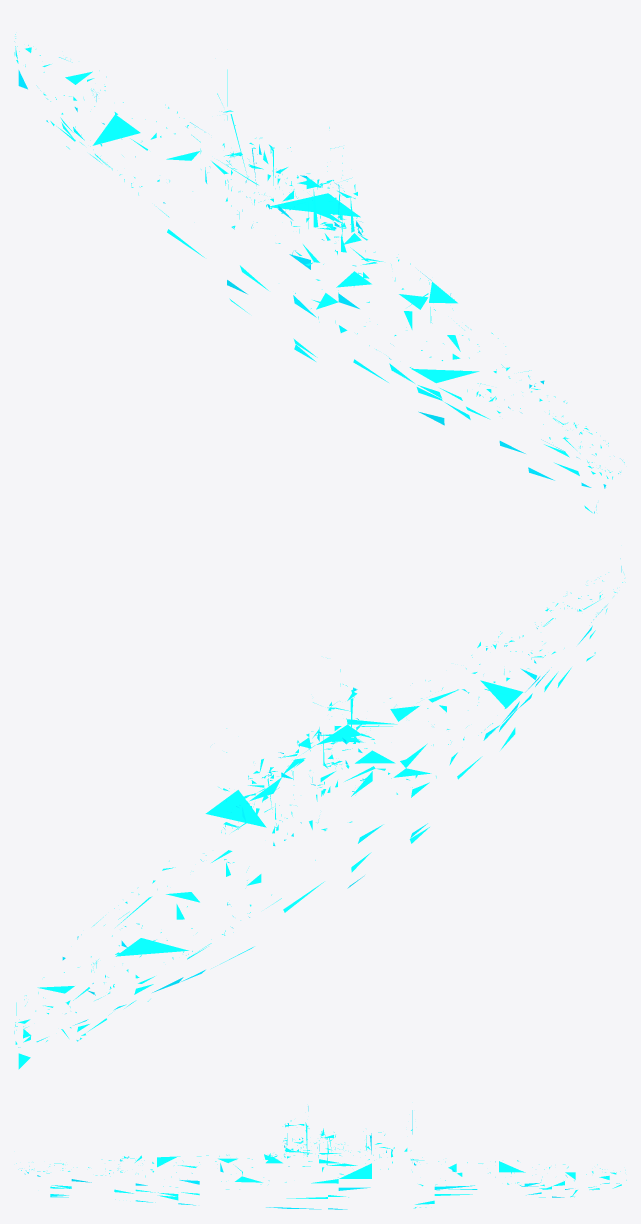
The model's file is Conte_Verde.glb.
3 views of the same model, one above another, from view 1: azimuth 30°, elevation 25°; view 2: azimuth 150°, elevation 25°; view 3: azimuth 270°, elevation 25° (orthographic). The views are drawn at different scales.
Size of the model in its own units: 2.25 by 3.4 by 19.13.
